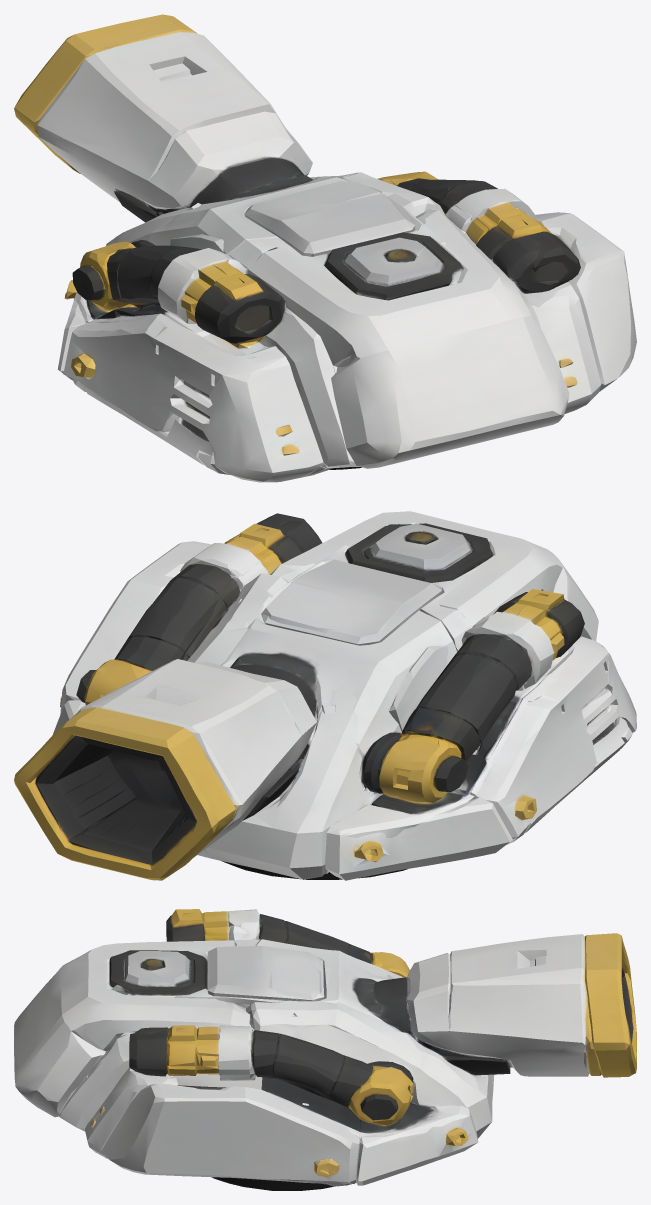
File: scatter.glb
3 views of the same model, one above another, from view 1: azimuth 30°, elevation 25°; view 2: azimuth 150°, elevation 25°; view 3: azimuth 270°, elevation 25° (orthographic). The views are drawn at different scales.
Visible parts, largest first — view 1: Housing3, Barrel4, Housing2, Housing1, Body; view 2: Housing3, Barrel4, Housing2, Housing1, Body; view 3: Housing3, Barrel4, Housing2, Housing1, Body.
Part boxes in pixels (x1,y1,x2,y2): Housing3: (57, 171, 636, 482); Barrel4: (14, 14, 312, 209); Housing2: (64, 157, 461, 358); Housing1: (436, 200, 575, 293); Body: (72, 378, 361, 476); Housing3: (53, 511, 636, 880); Barrel4: (14, 659, 316, 880); Housing2: (220, 523, 574, 862); Housing1: (85, 520, 322, 705); Body: (221, 686, 632, 879); Housing3: (14, 909, 512, 1185); Barrel4: (406, 933, 636, 1077); Housing2: (109, 925, 476, 1059); Housing1: (86, 1027, 437, 1139); Body: (173, 1073, 356, 1190).
Size of the model in its own units: 1.3 by 0.65 by 1.9.
Materials: 5 (5 with a texture image).
